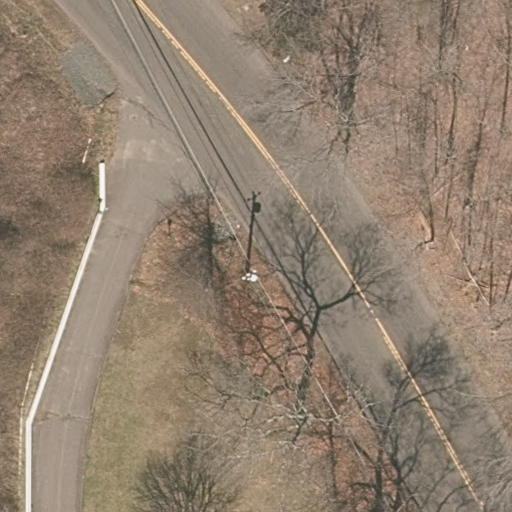DT: (238, 267, 261, 287)
